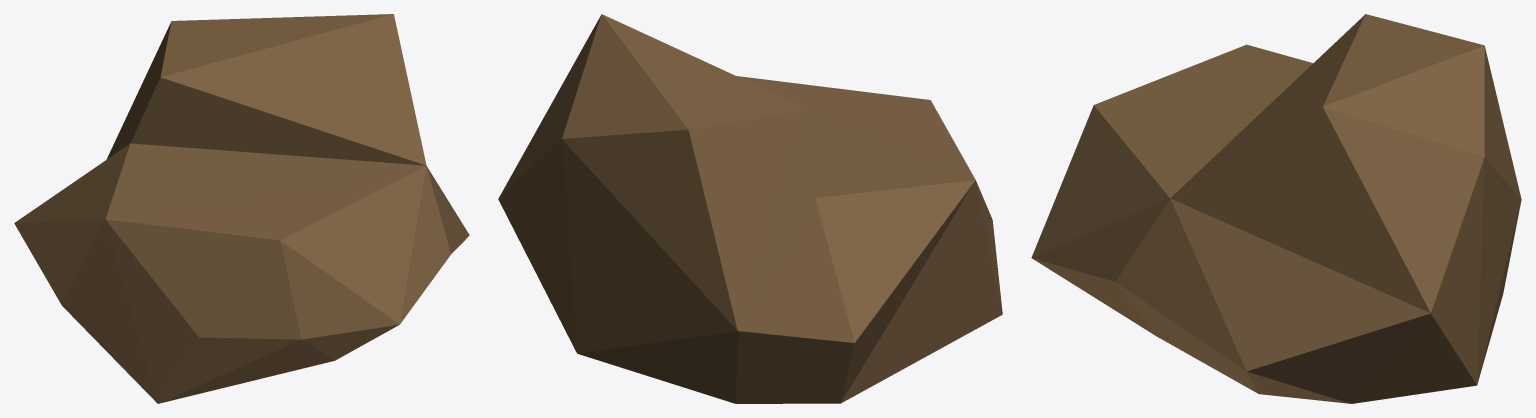
File: Boulder-B03.fbx
The picture shows the model from 3 angles, left to right: view 1: azimuth 30°, elevation 25°; view 2: azimuth 150°, elevation 25°; view 3: azimuth 270°, elevation 25°; orthographic projection. The views are drawn at different scales.
Visible parts, largest first — view 1: Boulder-B03; view 2: Boulder-B03; view 3: Boulder-B03.
Boxes of the visible parts, x1=… form: Boulder-B03: x1=14, y1=14, x2=469, y2=403; Boulder-B03: x1=498, y1=14, x2=1002, y2=403; Boulder-B03: x1=1031, y1=14, x2=1521, y2=403.
Size of the model in its own units: 120 by 80.52 by 118.
